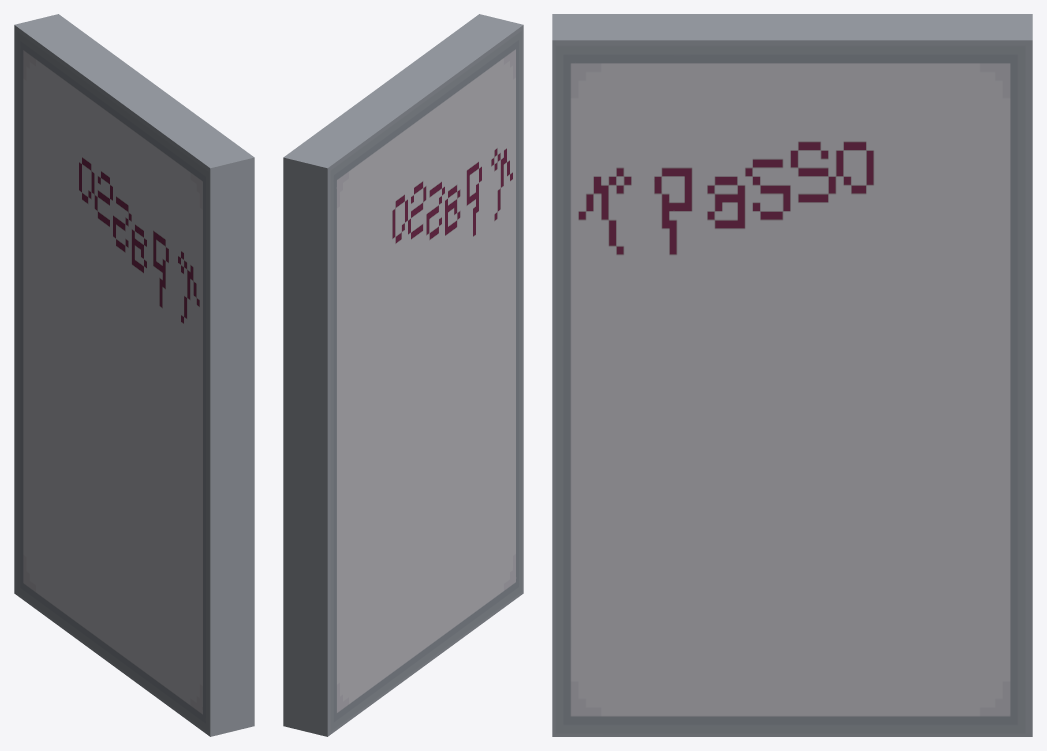
File: espelhocompassopronto.fbx
The picture shows the model from 3 angles, left to right: view 1: azimuth 30°, elevation 25°; view 2: azimuth 150°, elevation 25°; view 3: azimuth 270°, elevation 25°; orthographic projection. The views are drawn at different scales.
Parts seen in each view (by area): view 1: Cube; view 2: Cube; view 3: Cube.001, Cube.
Part boxes in pixels (x1,y1,x2,y2): Cube: (14, 14, 254, 736); Cube: (283, 14, 523, 736); Cube.001: (574, 60, 1010, 717); Cube: (552, 14, 1032, 736).
Size of the model in its own units: 34.33 by 421 by 263.
2 materials, 2 textured.
